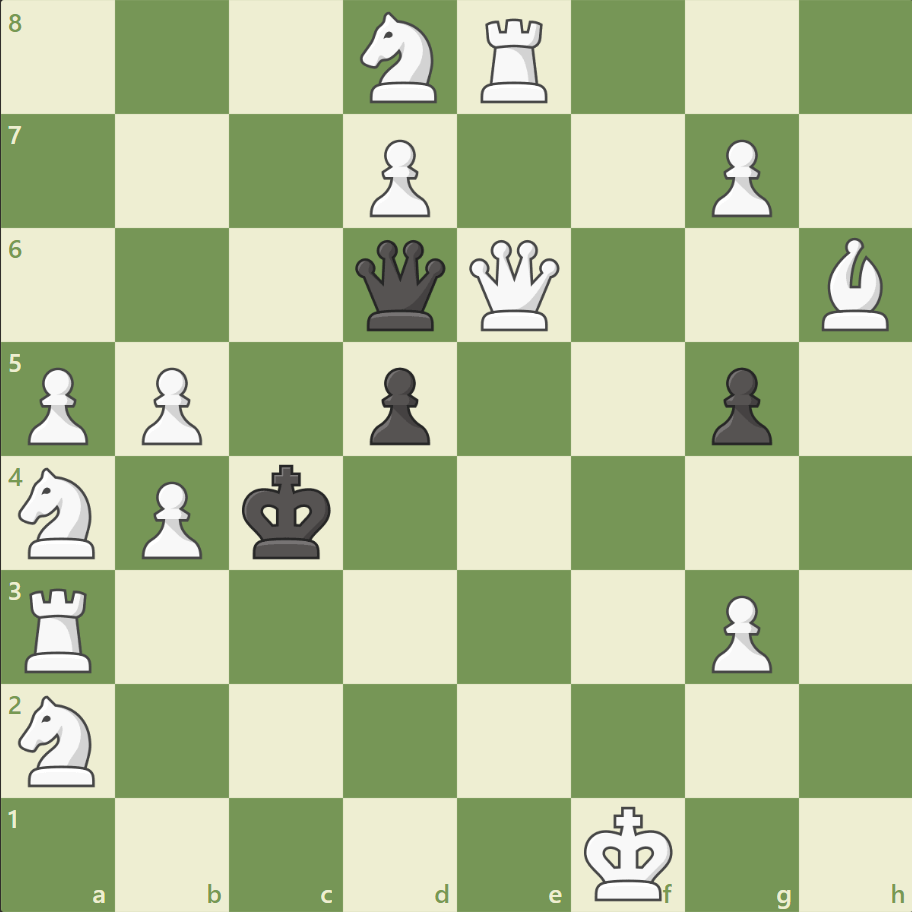B: (812, 233, 896, 336)
K: (579, 798, 679, 906)
N: (351, 7, 449, 110), (11, 461, 108, 564), (11, 688, 108, 791)
P: (701, 132, 776, 223), (20, 359, 95, 450), (133, 359, 208, 450), (133, 473, 208, 564), (701, 586, 776, 677), (361, 132, 435, 223)
Q: (464, 236, 563, 335)
R: (473, 12, 556, 109), (19, 579, 102, 676)
k: (238, 458, 338, 566)
p: (701, 359, 776, 450), (361, 359, 435, 450)
q: (351, 236, 450, 335)
